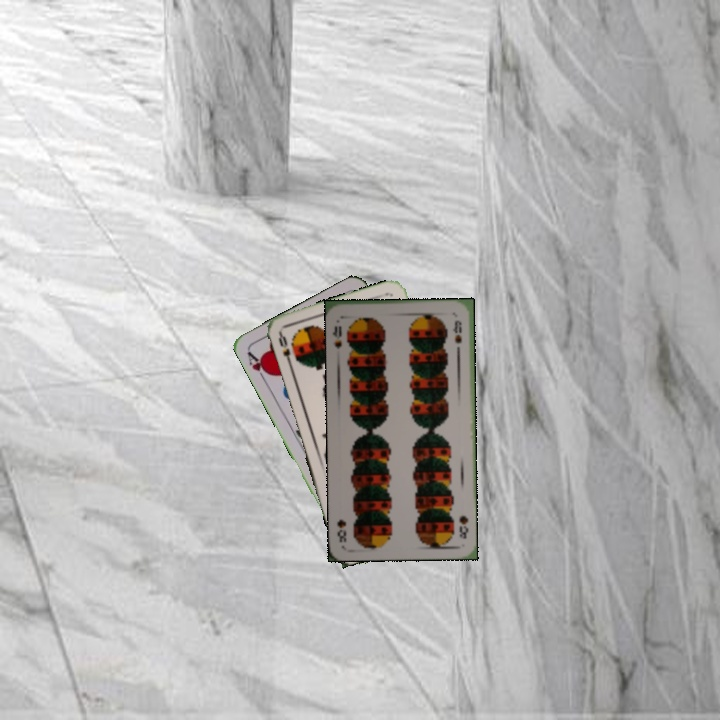HA: (243, 347, 273, 385)
S8: (455, 511, 471, 541), (329, 322, 344, 351)
SO: (274, 329, 295, 369)
